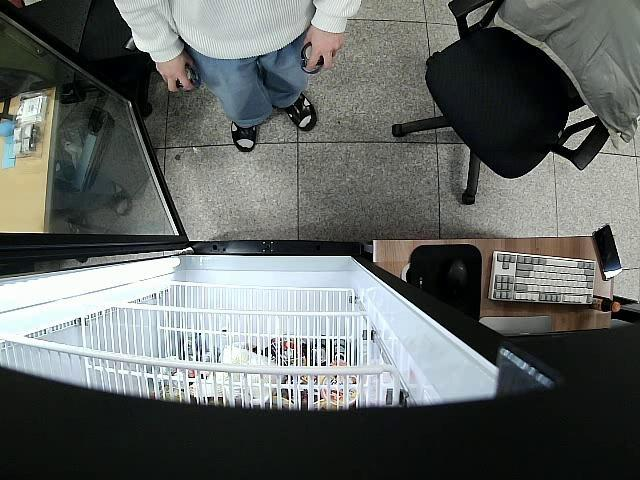14_welchsGrape: (300, 44, 323, 77), (178, 66, 202, 93)
